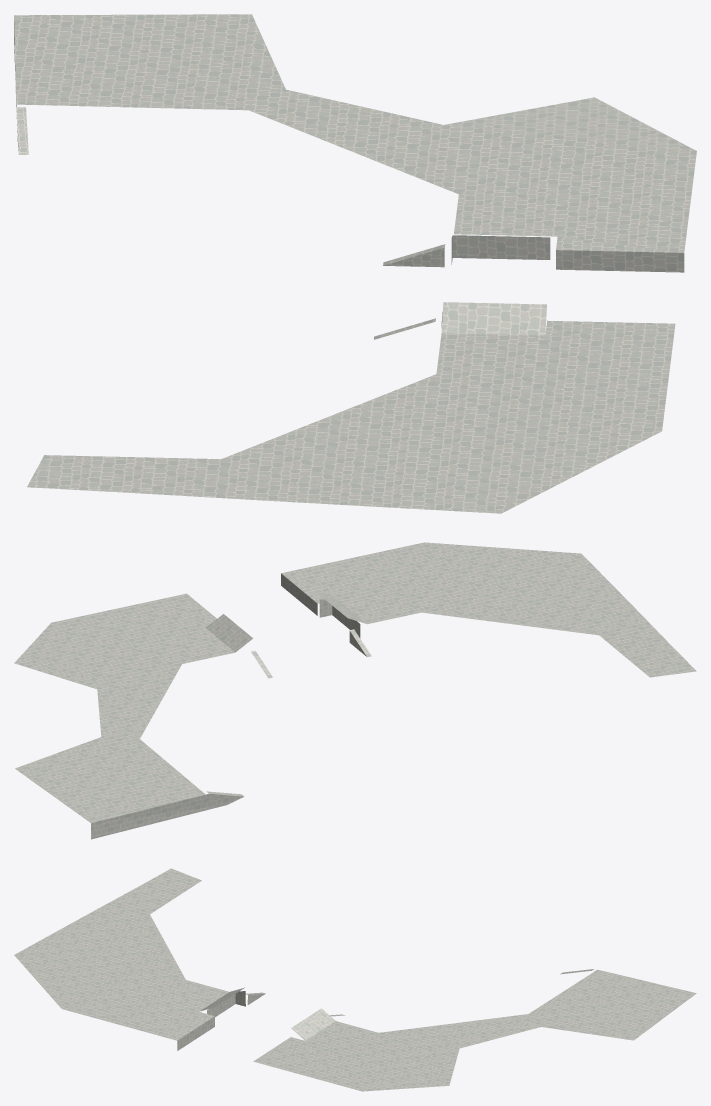
Rendered from kd_stage_1363c5_11_2_bounded.glb.
The picture shows the model from 3 angles, top to bottom: view 1: azimuth 30°, elevation 25°; view 2: azimuth 150°, elevation 25°; view 3: azimuth 270°, elevation 25°; orthographic projection. The views are drawn at different scales.
Parts seen in each view (by area): view 1: kd_stage_1363c5_11_2_bounded; view 2: kd_stage_1363c5_11_2_bounded; view 3: kd_stage_1363c5_11_2_bounded.
Boxes of the visible parts, <box> form: kd_stage_1363c5_11_2_bounded: <box>14,14,696,513</box>; kd_stage_1363c5_11_2_bounded: <box>14,542,696,839</box>; kd_stage_1363c5_11_2_bounded: <box>14,868,696,1091</box>.
Bounding box in the file's own units: 29.79 × 1.42 × 38.53.
Materials: 1 (1 with a texture image).
